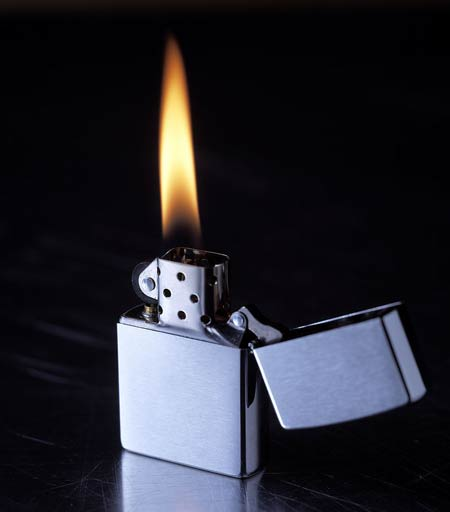Fire: (148, 40, 204, 248)
